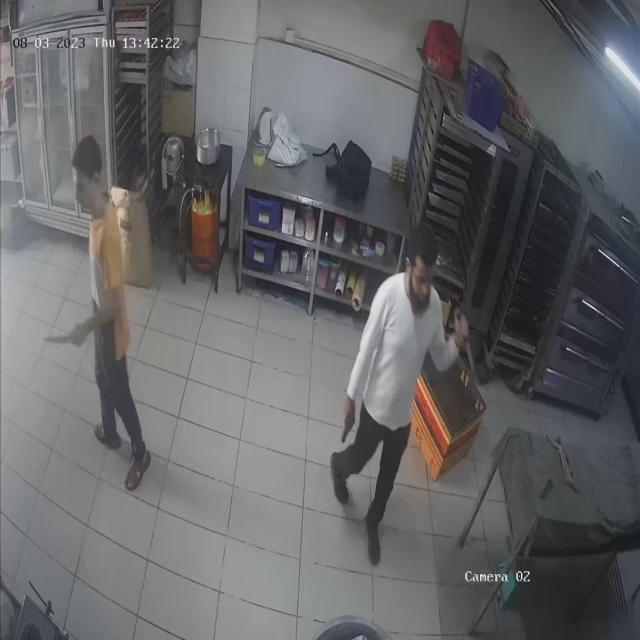Gun: (333, 403, 365, 448)
Knife: (30, 320, 108, 358), (444, 315, 484, 373)
